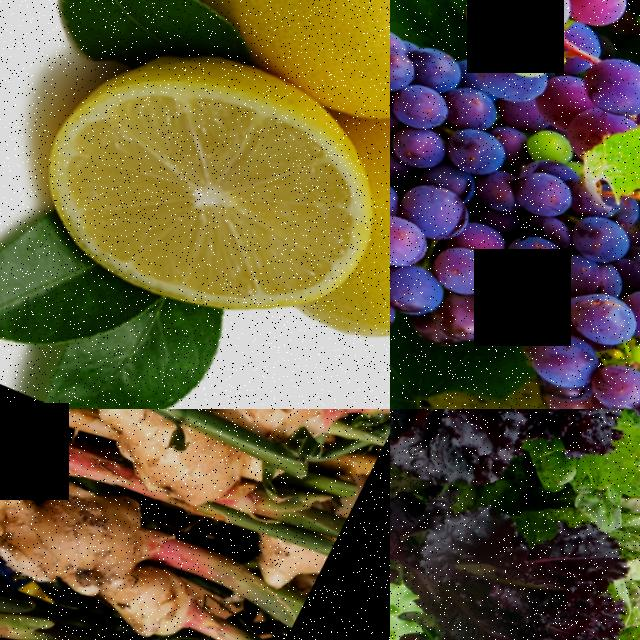ginger: (0, 456, 198, 620)
grapes: (390, 109, 599, 397), (390, 0, 631, 248), (437, 0, 640, 137), (503, 208, 640, 409)
lemon: (6, 27, 385, 342), (122, 0, 390, 119), (317, 93, 390, 382)
lettuce: (390, 487, 511, 640)
